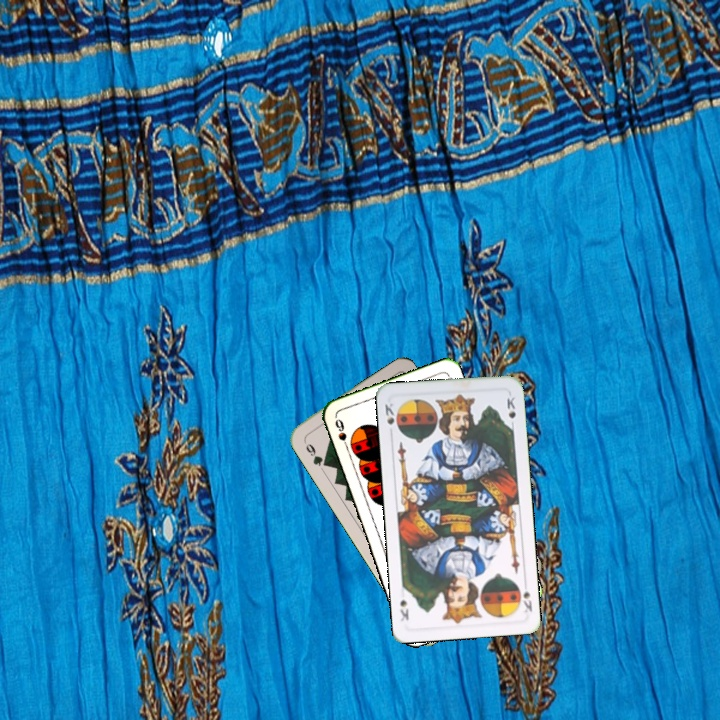G9: (299, 436, 330, 469)
S9: (331, 415, 352, 454)
SK: (519, 577, 535, 615), (381, 399, 397, 427)
